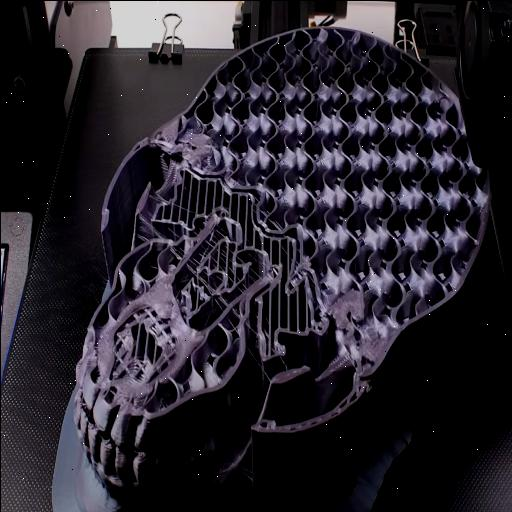stringing: (186, 219, 268, 317), (112, 352, 154, 408), (133, 190, 168, 256)
